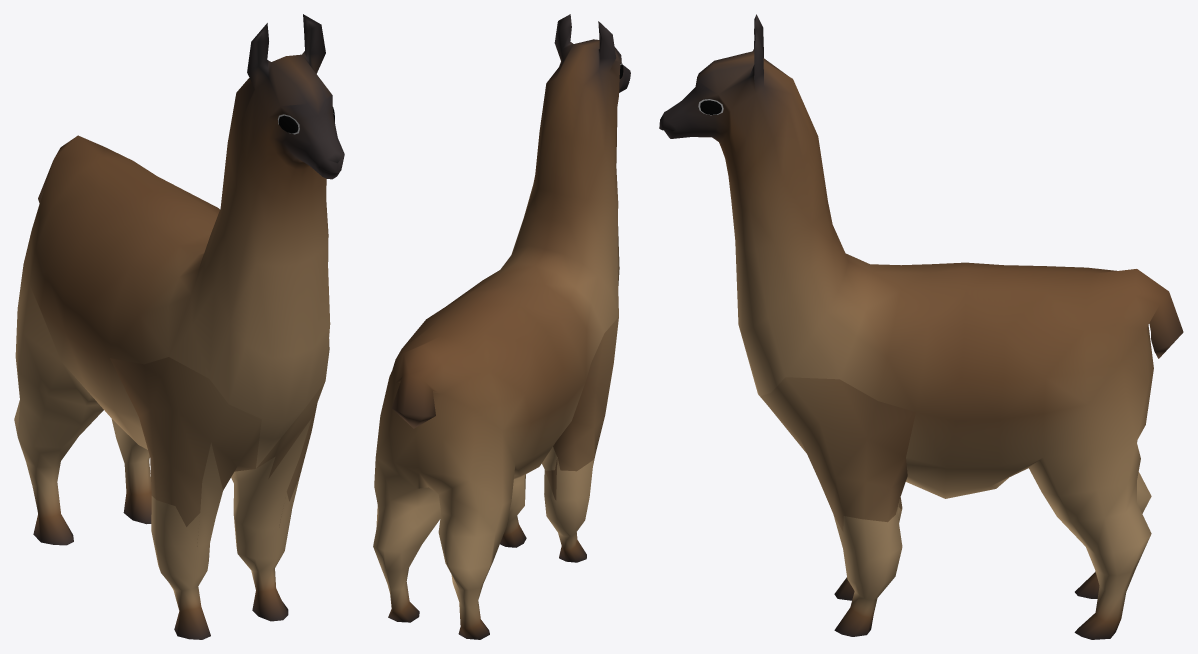
Rendered from Llama.fbx.
The picture shows the model from 3 angles, left to right: view 1: azimuth 30°, elevation 25°; view 2: azimuth 150°, elevation 25°; view 3: azimuth 270°, elevation 25°; orthographic projection. The views are drawn at different scales.
Parts seen in each view (by area): view 1: alt600, alt601; view 2: alt600, alt601; view 3: alt600, alt601.
Part boxes in pixels (left/top/right/bottom): alt600: left=14, top=14, right=344, bottom=639; alt601: left=110, top=357, right=325, bottom=546; alt600: left=373, top=14, right=630, bottom=639; alt601: left=545, top=70, right=620, bottom=500; alt600: left=659, top=14, right=1183, bottom=639; alt601: left=760, top=377, right=915, bottom=531.
Size of the model in its own units: 0.5676 by 1.97 by 1.58.
